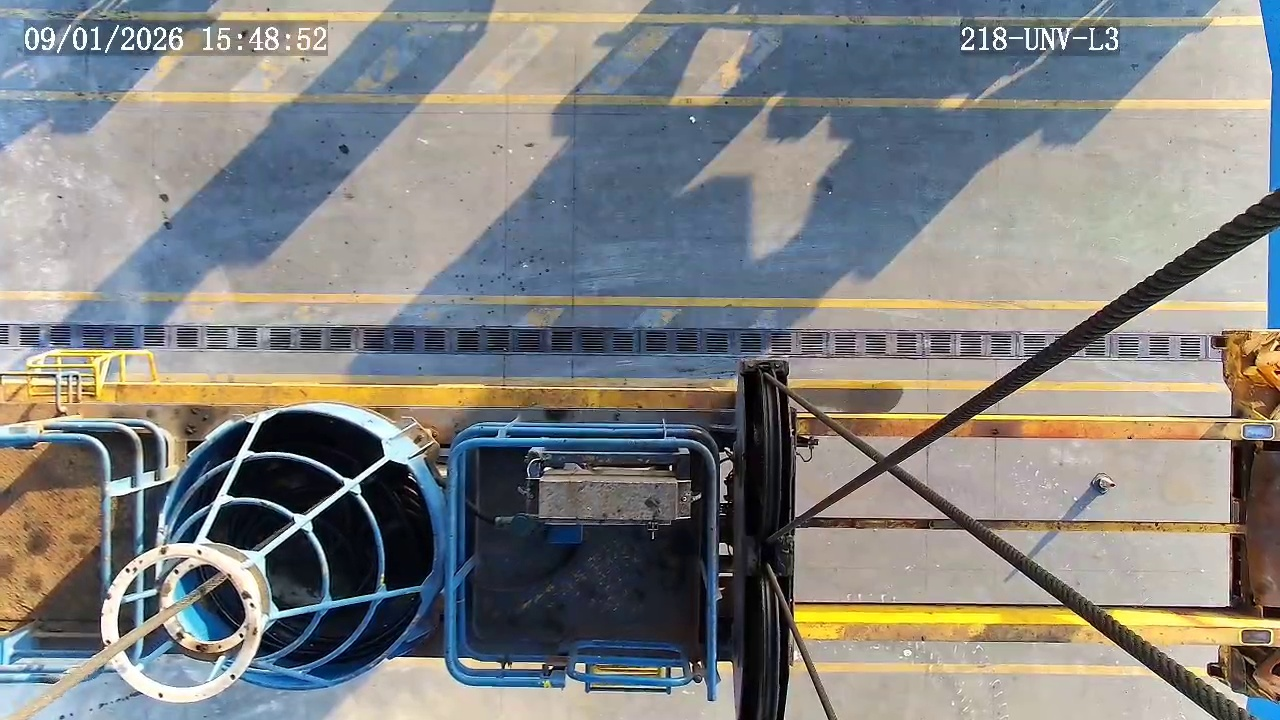right: (99, 543, 261, 704)
